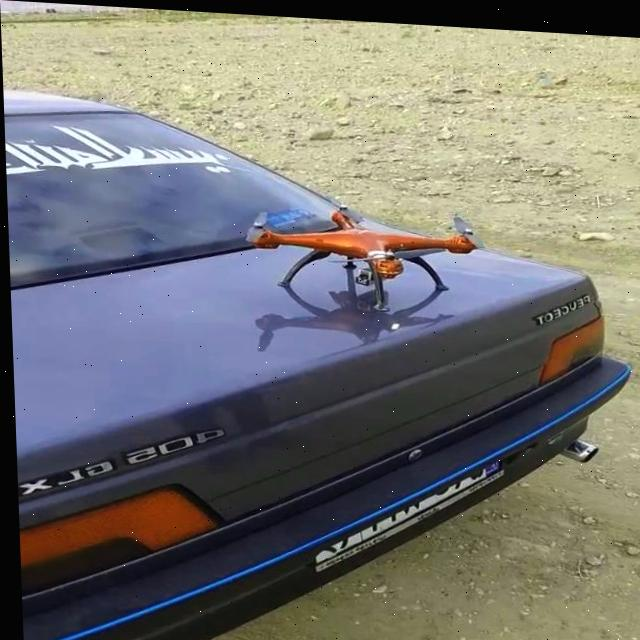drone: (239, 186, 491, 319)
